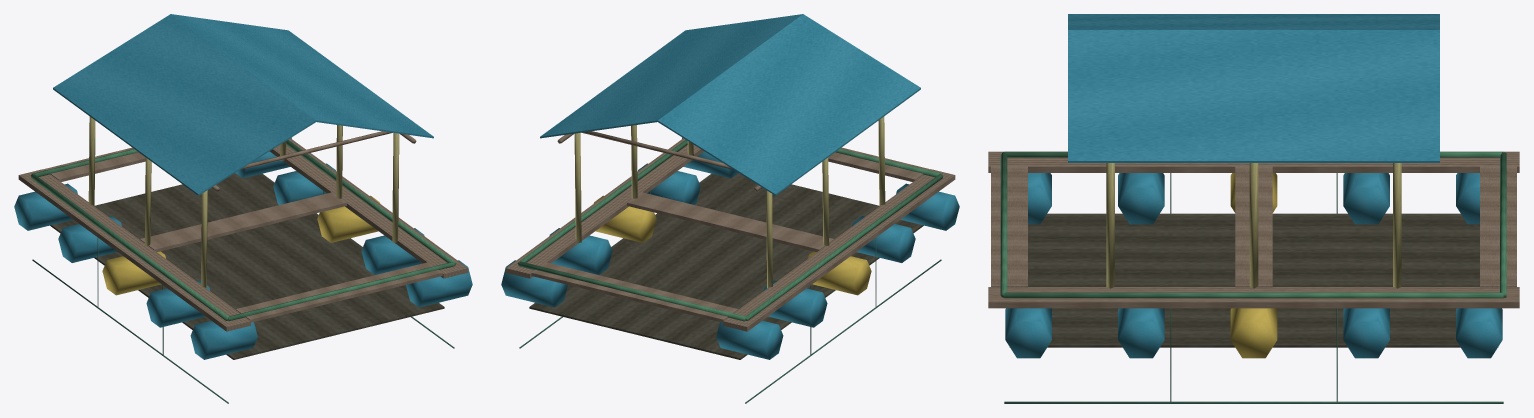
File: bung-raft-1-blue-mid.glb
3 views of the same model, side by side, from view 1: azimuth 30°, elevation 25°; view 2: azimuth 150°, elevation 25°; view 3: azimuth 270°, elevation 25° (orthographic). The views are drawn at different scales.
Visible parts, largest first — view 1: bung-raft-1-blue-mid; view 2: bung-raft-1-blue-mid; view 3: bung-raft-1-blue-mid.
Part boxes in pixels (box(x1,y1,x2,y2)): bung-raft-1-blue-mid: box(14, 14, 472, 403); bung-raft-1-blue-mid: box(501, 14, 959, 403); bung-raft-1-blue-mid: box(988, 14, 1519, 403).
Bounding box in the file's own units: 4.84 × 4.17 × 6.6.
1 material, 1 textured.
